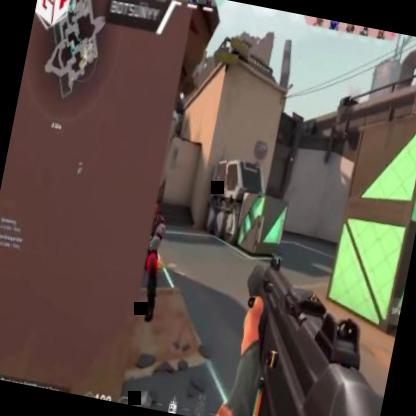enemy: (124, 198, 174, 322)
enemy_head: (146, 200, 160, 226)
